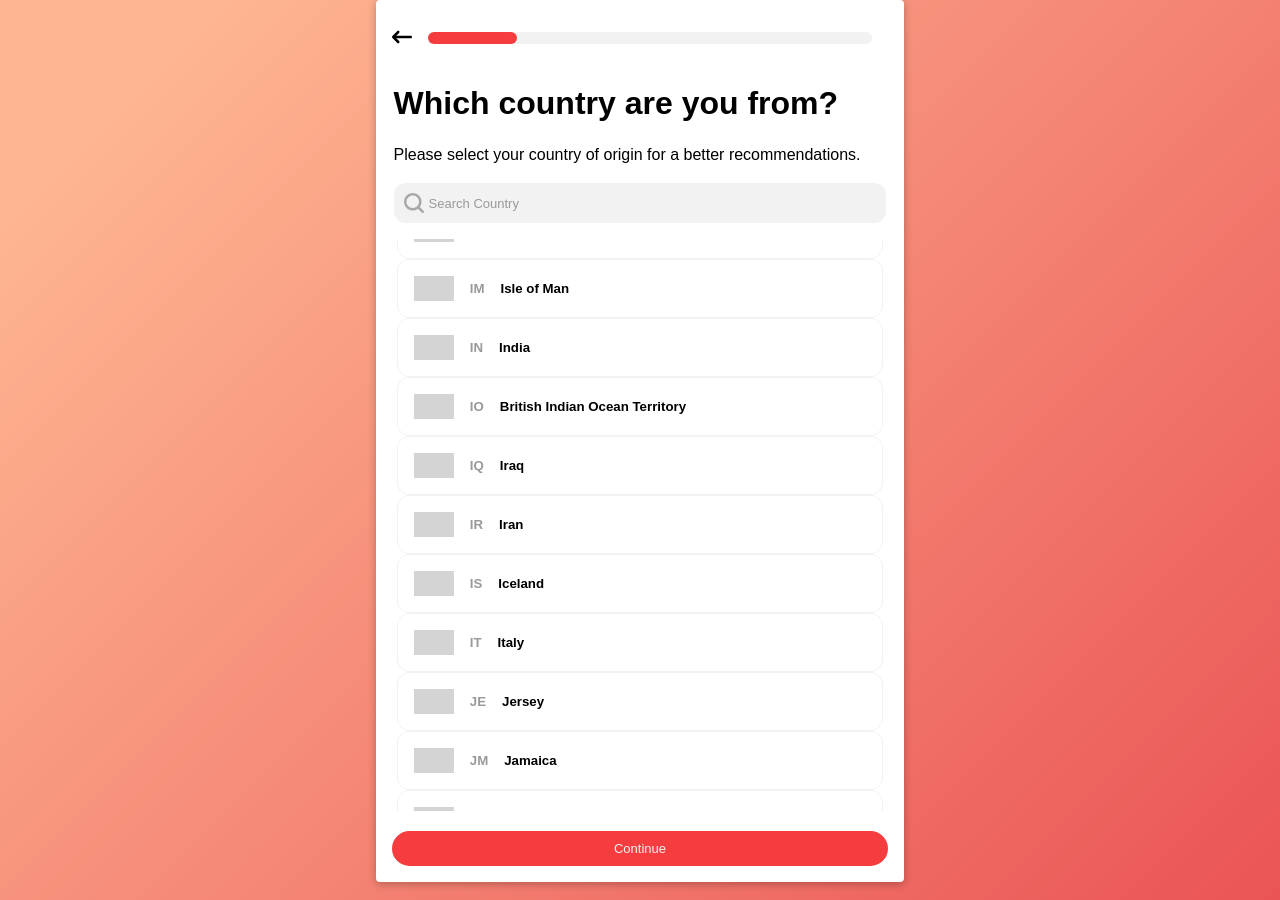
Test: CountryPage › Update search input value with selected country
(page scrolled)
Click the heading "Iran" at [511, 525], box [499, 515, 523, 535]
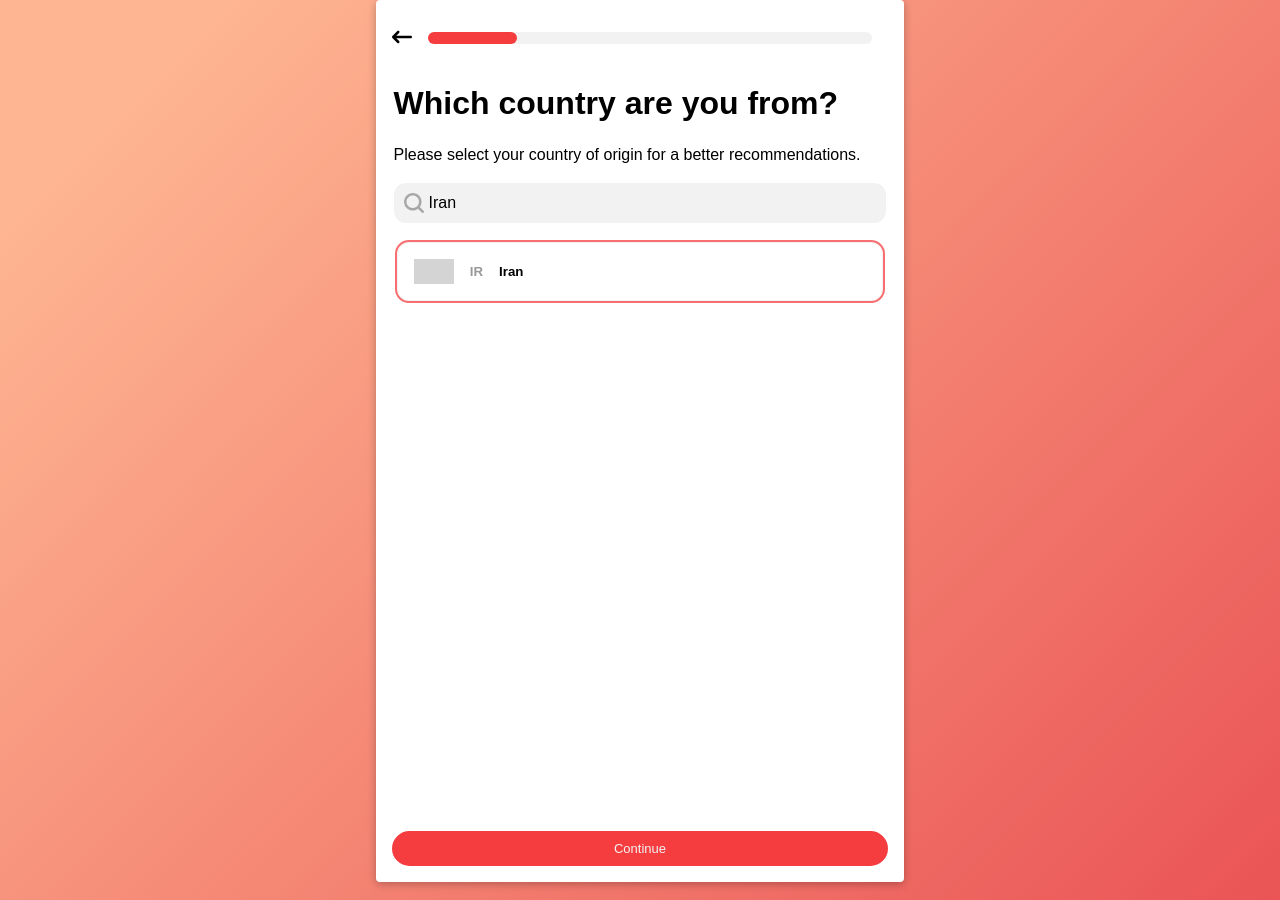
Check: the field with placeholder "Search Country" holds "Iran", box [394, 183, 886, 223]
